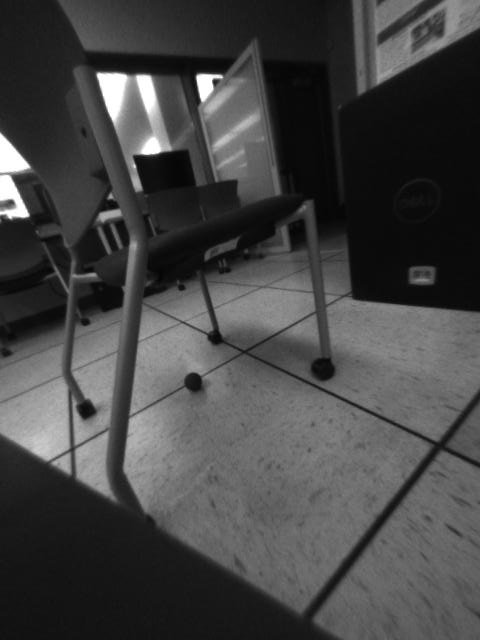dogtoy: (175, 369, 213, 400)
